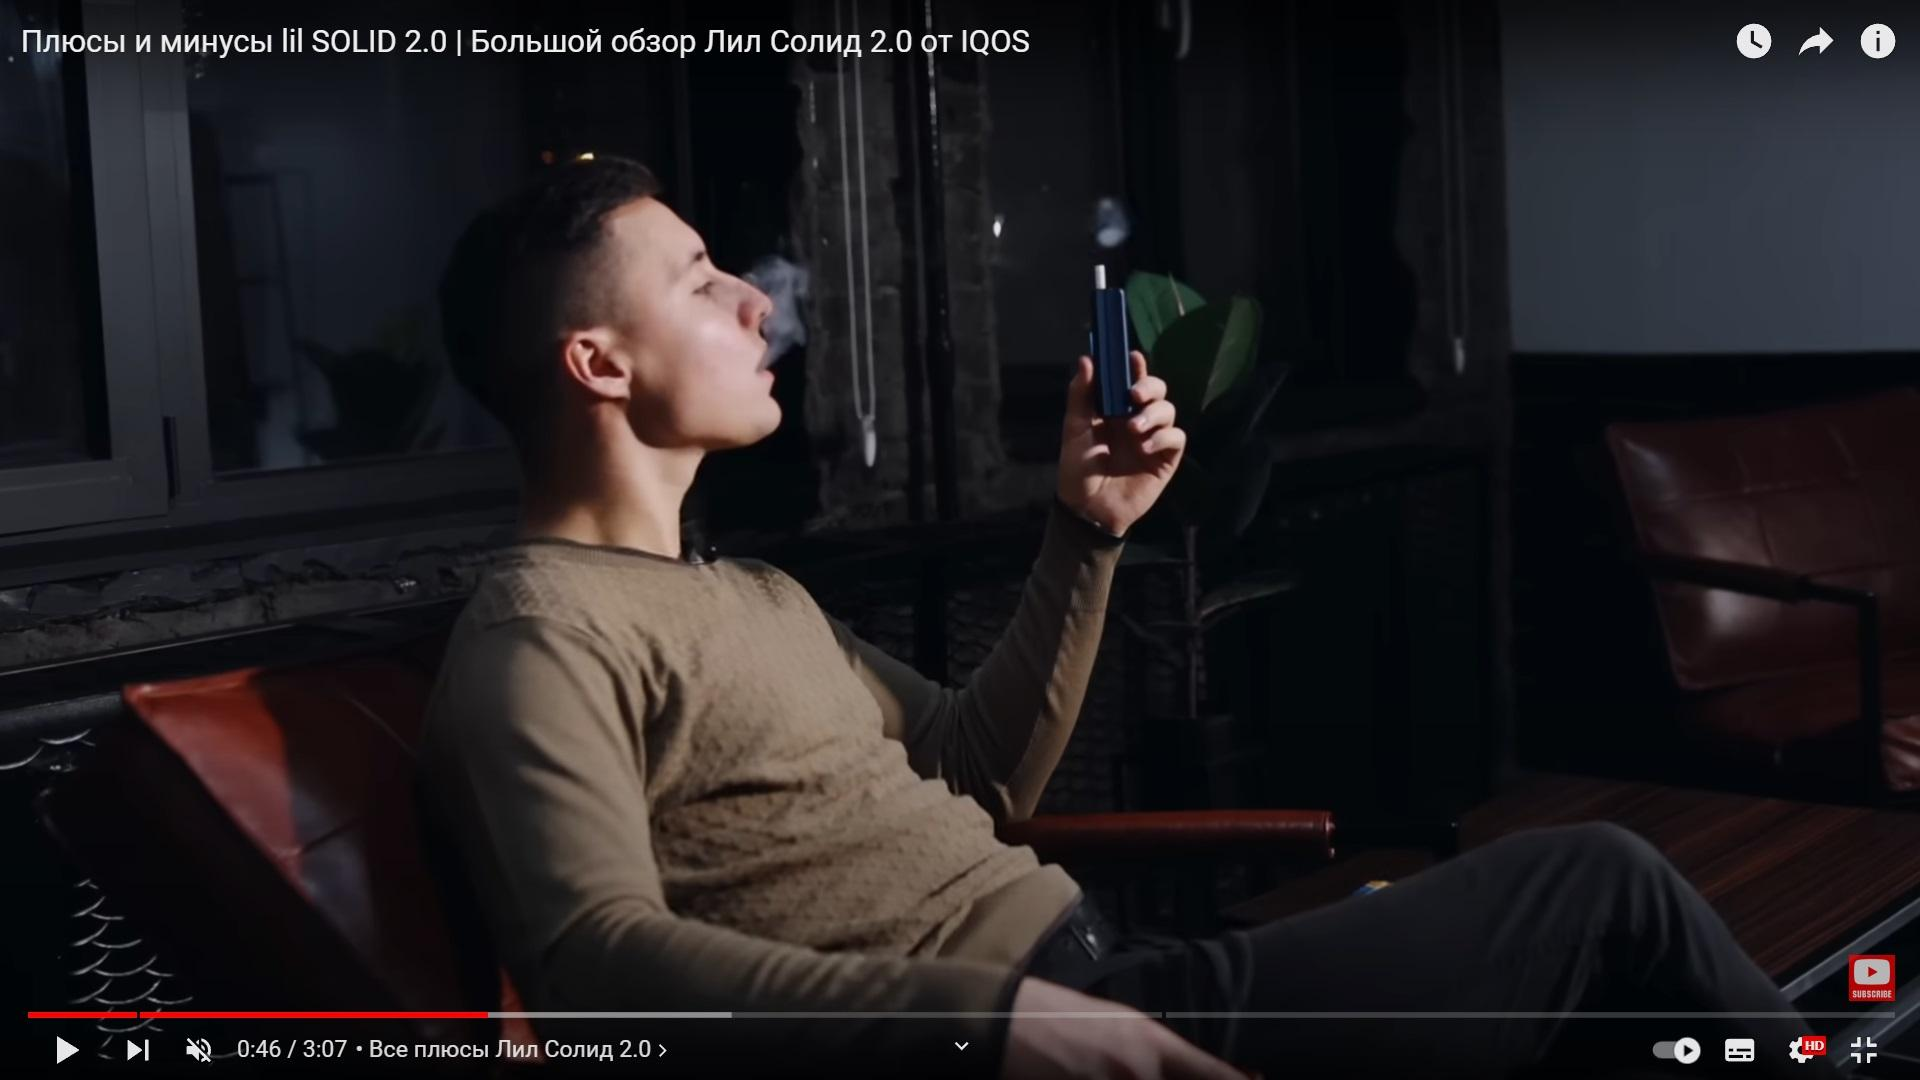iqos: (1093, 264, 1134, 419)
